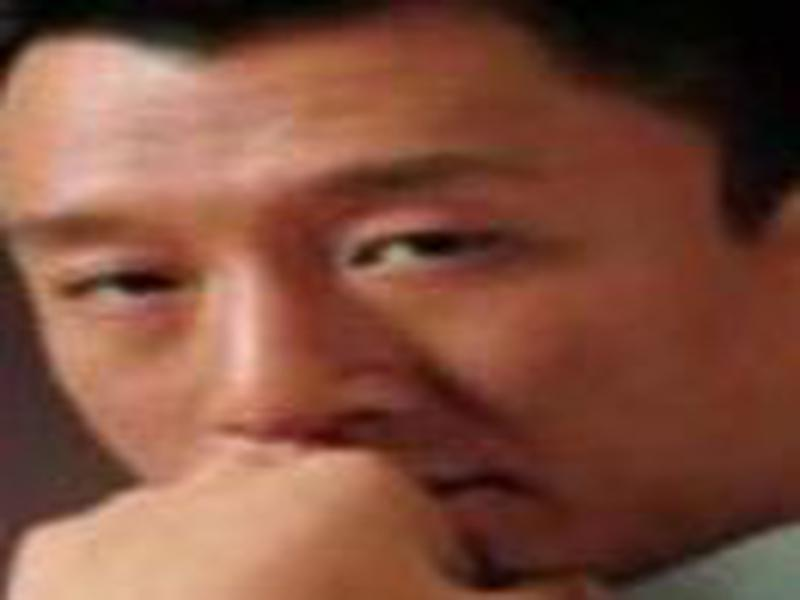without_mask: (4, 31, 776, 580)
